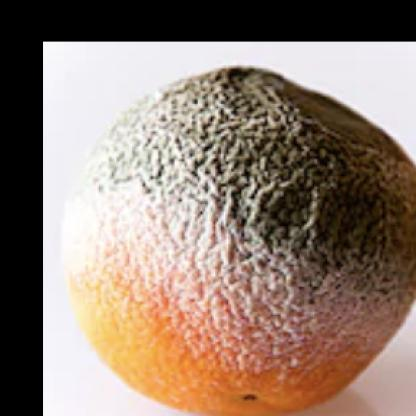rotten: (60, 66, 416, 416)
